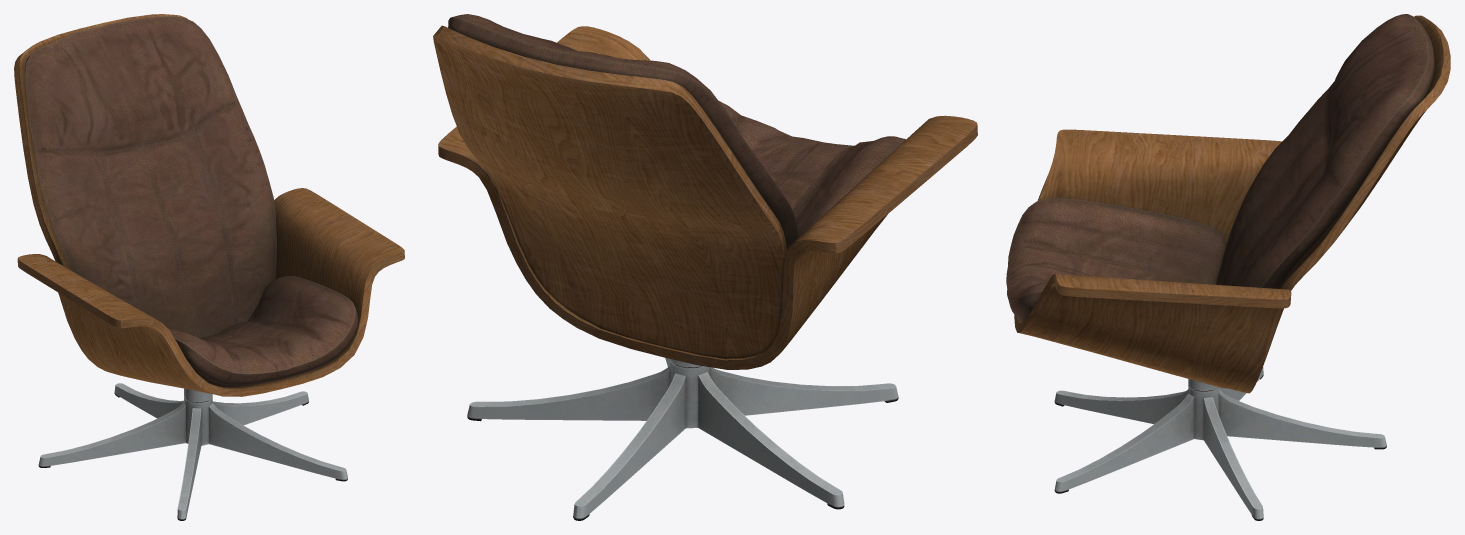
The model's file is LoungeChairMidCentury.obj.
The picture shows the model from 3 angles, left to right: view 1: azimuth 30°, elevation 25°; view 2: azimuth 150°, elevation 25°; view 3: azimuth 270°, elevation 25°; orthographic projection. The views are drawn at different scales.
Parts seen in each view (by area): view 1: Chair; view 2: Chair; view 3: Chair.
Boxes of the visible parts, box(x1,y1,x2,y2) form: Chair: box(14, 14, 404, 520); Chair: box(433, 14, 977, 520); Chair: box(1006, 14, 1450, 520).
Size of the model in its own units: 1.01 by 1.17 by 1.19.
1 material, 1 textured.
